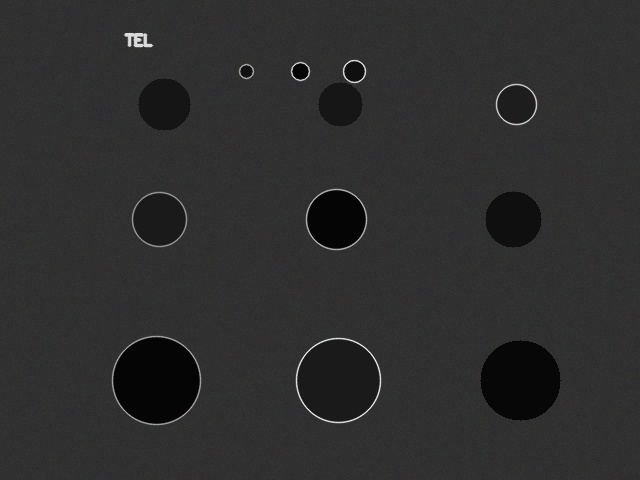hole: (112, 336, 200, 424), (296, 338, 380, 422), (480, 340, 560, 420), (306, 189, 366, 249), (485, 191, 541, 247), (132, 192, 186, 246), (138, 78, 190, 130), (318, 82, 362, 126), (496, 84, 536, 124), (343, 60, 365, 82), (291, 62, 309, 80), (239, 64, 253, 78)
